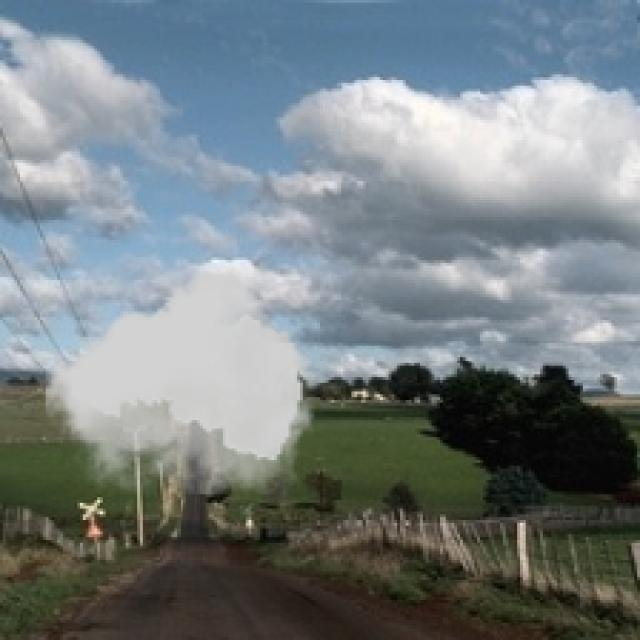Smoke: (46, 272, 314, 494)
